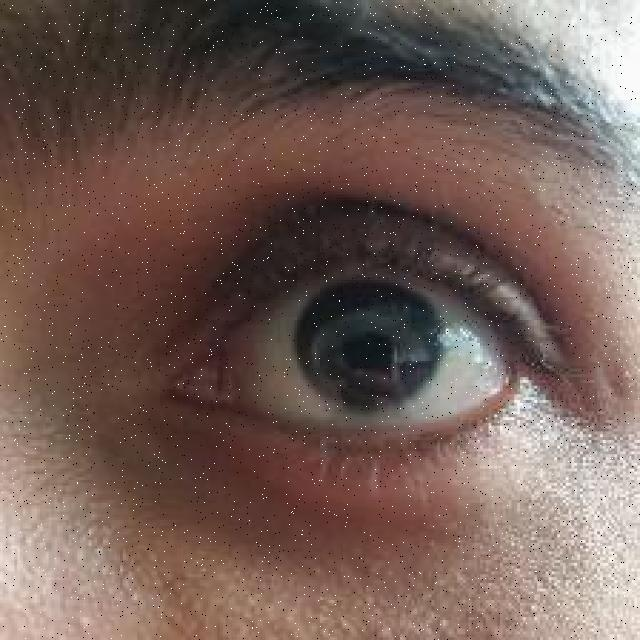Normal: (40, 152, 640, 544)
